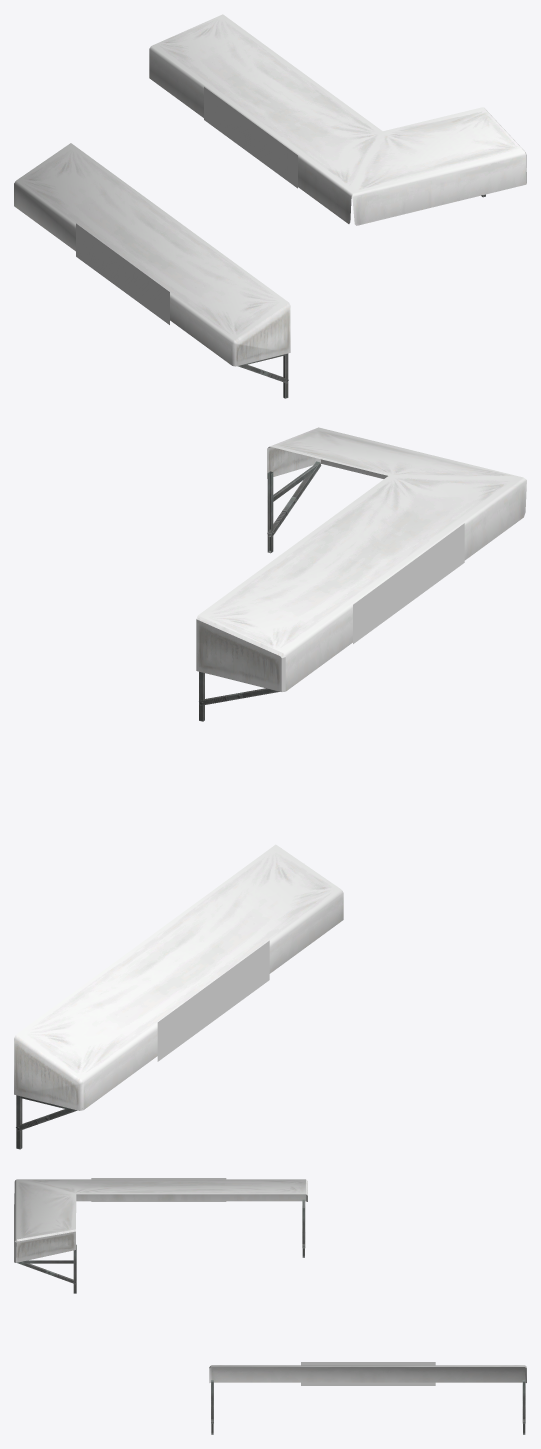
File: MhouseB_Base_35R_Sunshade.fbx
3 renders of one model, top to bottom at view 1: azimuth 30°, elevation 25°; view 2: azimuth 150°, elevation 25°; view 3: azimuth 270°, elevation 25°, orthographic. The views are drawn at different scales.
Parts seen in each view (by area): view 1: ct2_01_n1_yc1_sunshadeB35RR_00; view 2: ct2_01_n1_yc1_sunshadeB35RR_00; view 3: ct2_01_n1_yc1_sunshadeB35RR_00.
Part boxes in pixels (x1,y1,x2,y2): ct2_01_n1_yc1_sunshadeB35RR_00: (14, 14, 526, 398); ct2_01_n1_yc1_sunshadeB35RR_00: (14, 427, 526, 1149); ct2_01_n1_yc1_sunshadeB35RR_00: (14, 1178, 526, 1434).
Bounding box in the file's own units: 494 × 897 × 1732.
